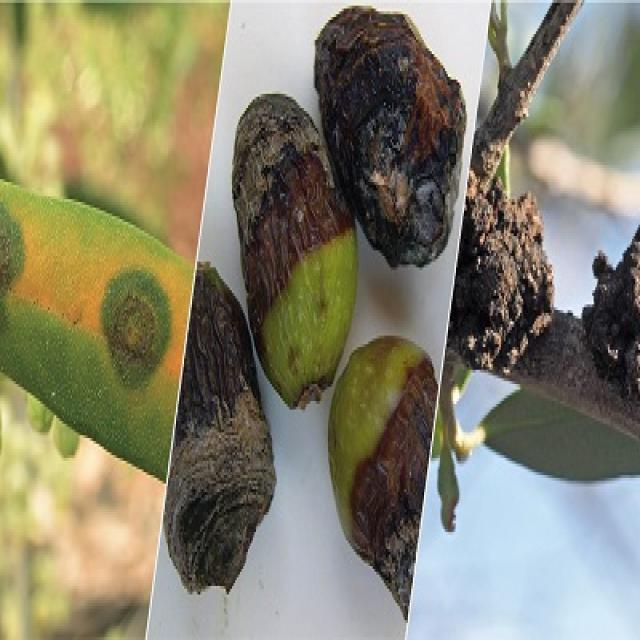Olive Fruit Fly: (232, 94, 357, 410), (315, 6, 466, 263), (163, 262, 275, 592), (328, 336, 437, 617)
Peacock Eye: (0, 179, 198, 481)
Tuberculosis: (446, 162, 558, 373), (582, 225, 638, 398)
